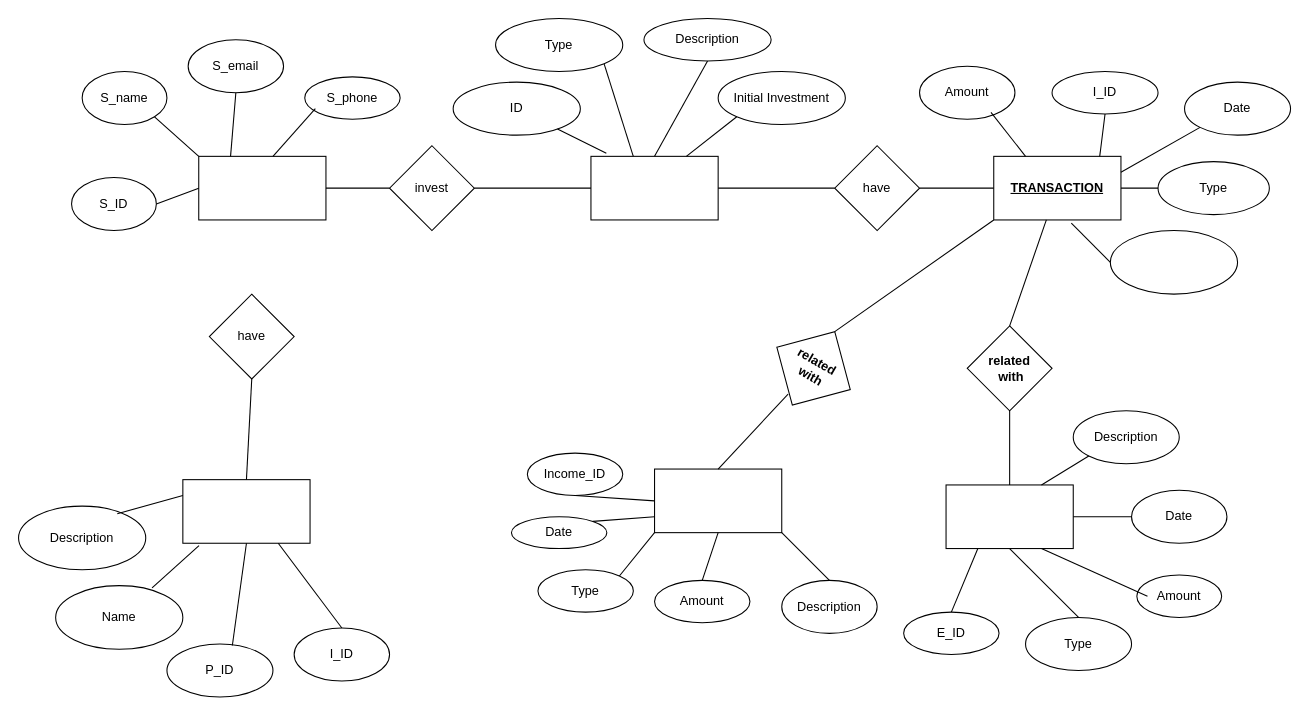
Image size: 1309x715. Some labels were removed from this diagram. Each missing label, with the box of its shape:
EXPENSE: (945, 484, 1073, 549)
INCOME: (653, 468, 782, 533)
INVESTMENT: (590, 155, 718, 220)
PORTFOLIO: (182, 479, 310, 543)
SHOPKEEPER: (198, 155, 326, 220)
T_ID: (1109, 229, 1238, 294)
